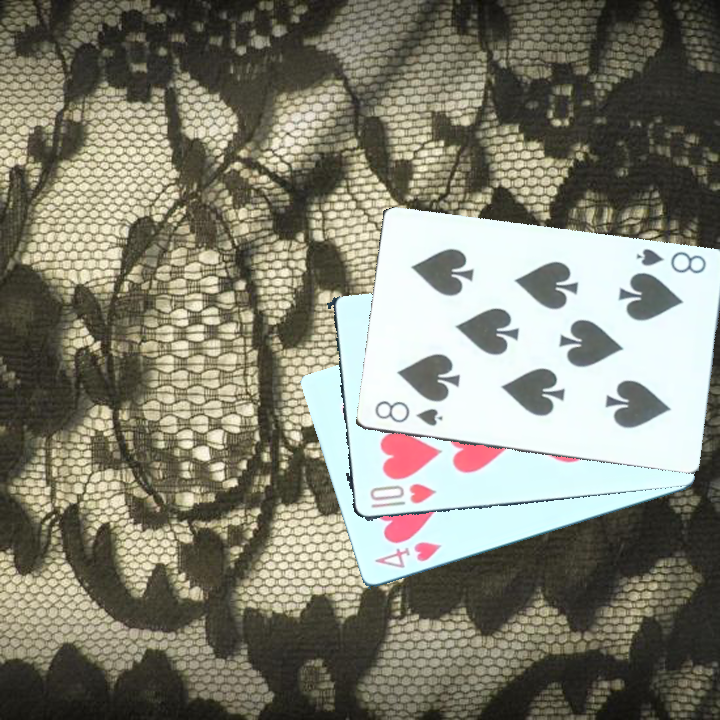10h: (366, 479, 440, 506)
4h: (371, 537, 444, 571)
8s: (632, 244, 709, 277), (370, 396, 445, 429)
